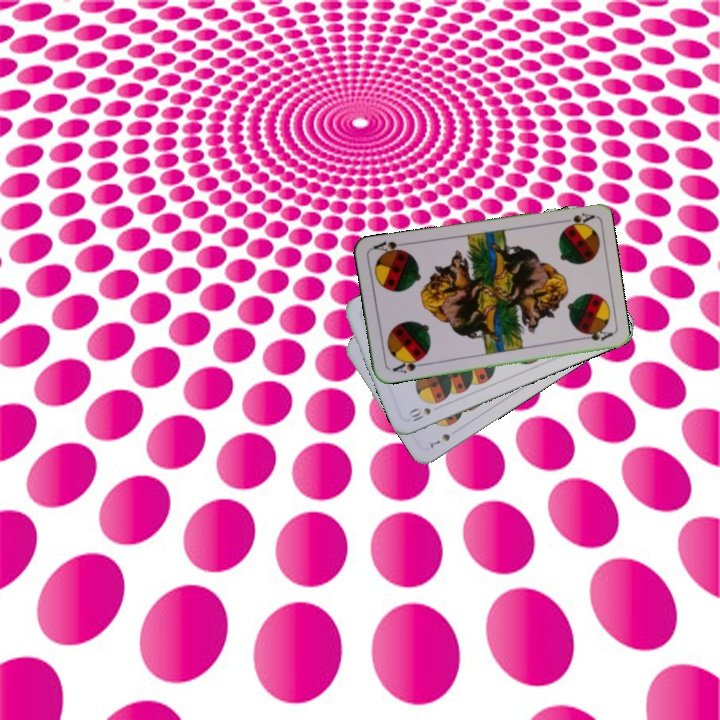S10: (404, 403, 433, 424)
S7: (426, 429, 453, 451)
SA: (555, 209, 596, 231), (389, 354, 427, 376)
